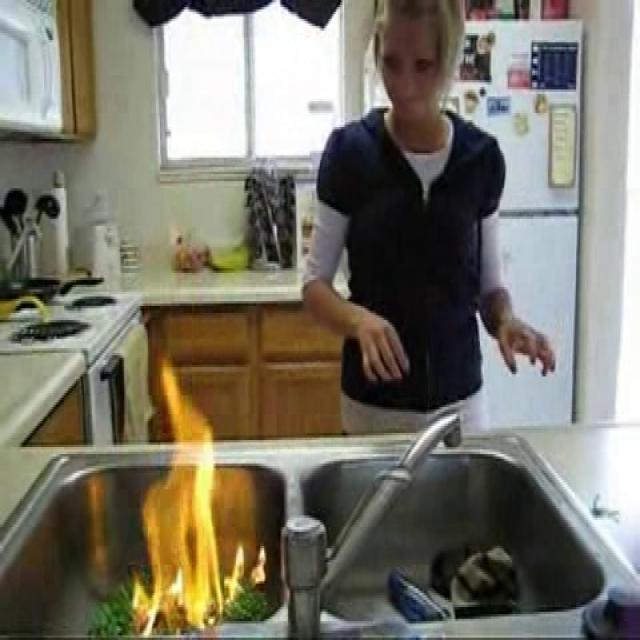Fire: (145, 367, 236, 638)
